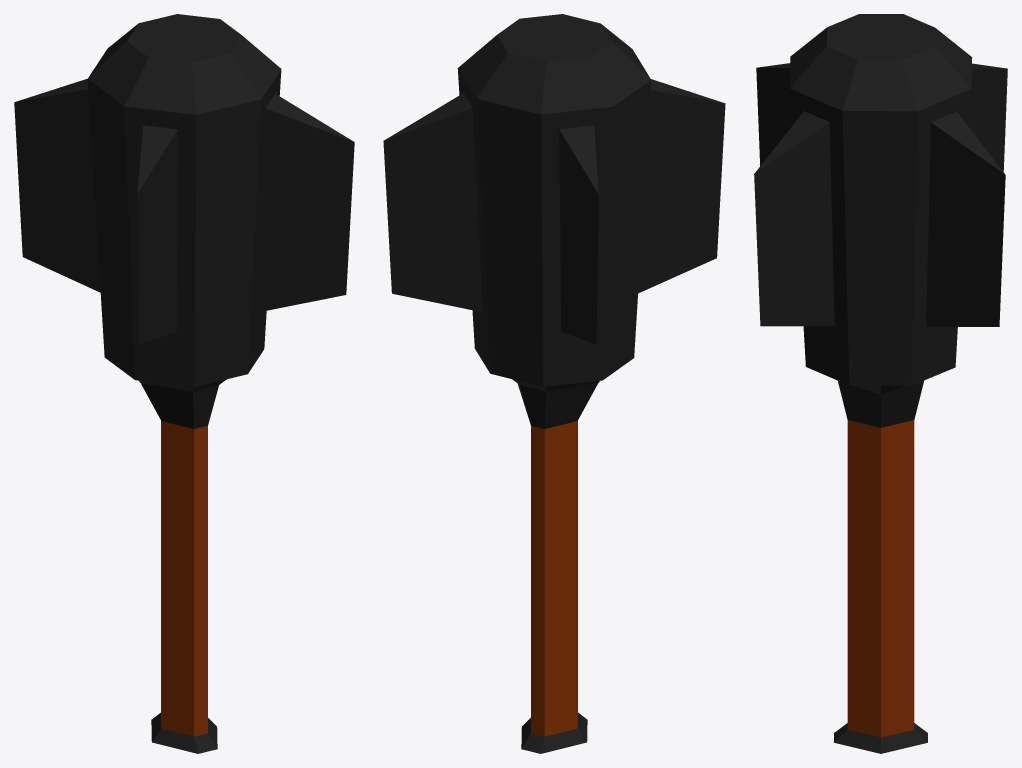
The model's file is mace.obj.
The picture shows the model from 3 angles, left to right: view 1: azimuth 30°, elevation 25°; view 2: azimuth 150°, elevation 25°; view 3: azimuth 270°, elevation 25°; orthographic projection.
Parts seen in each view (by area): view 1: mace2; view 2: mace2; view 3: mace2.
Boxes of the visible parts, box(x1,y1,x2,y2) form: mace2: box(14, 14, 354, 753); mace2: box(383, 14, 725, 753); mace2: box(754, 14, 1007, 753).
Size of the model in its own units: 0.0917 by 0.2797 by 0.0917.
